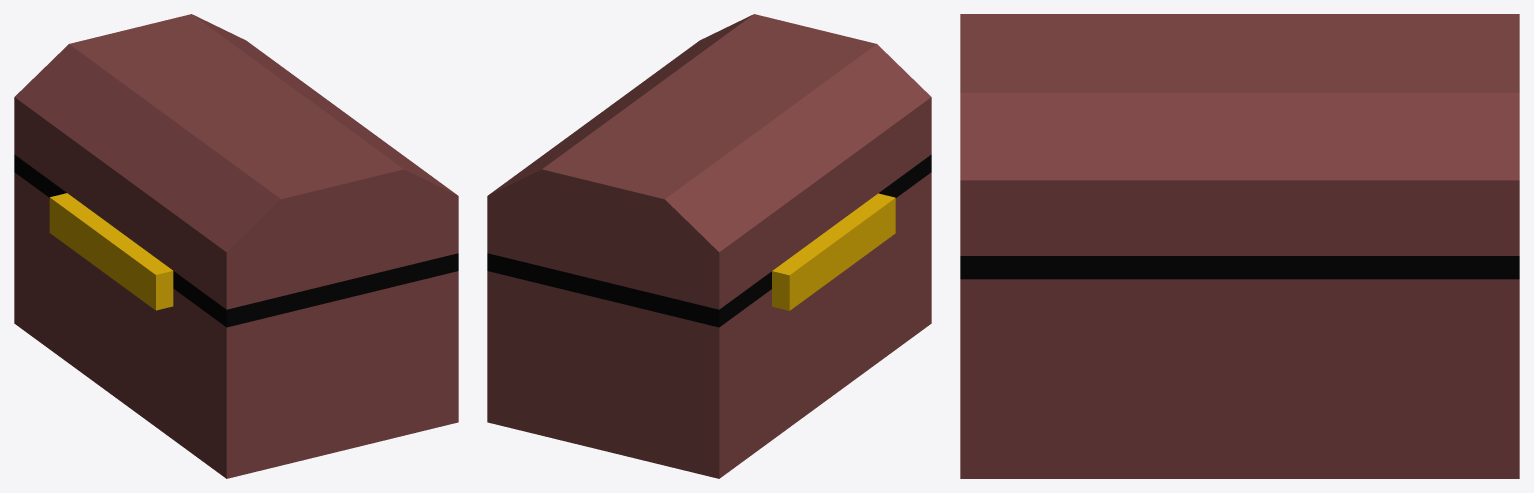
The model's file is skrzynia_lepsza.fbx.
3 renders of one model, left to right at view 1: azimuth 30°, elevation 25°; view 2: azimuth 150°, elevation 25°; view 3: azimuth 270°, elevation 25°, orthographic. The views are drawn at different scales.
Parts seen in each view (by area): view 1: gora, Cube, Cube.001, Cube.002; view 2: gora, Cube, Cube.001, Cube.002; view 3: gora, Cube, Cube.002.
Part boxes in pixels (x1,y1,x2,y2): gora: [14, 14, 458, 309]; Cube: [14, 172, 458, 478]; Cube.001: [49, 193, 173, 310]; Cube.002: [14, 154, 458, 327]; gora: [487, 14, 931, 309]; Cube: [487, 172, 931, 478]; Cube.001: [772, 193, 895, 310]; Cube.002: [487, 154, 931, 327]; gora: [960, 14, 1519, 255]; Cube: [960, 279, 1519, 478]; Cube.002: [960, 256, 1519, 279].
Bounding box in the file's own units: 283 × 289 × 417.
